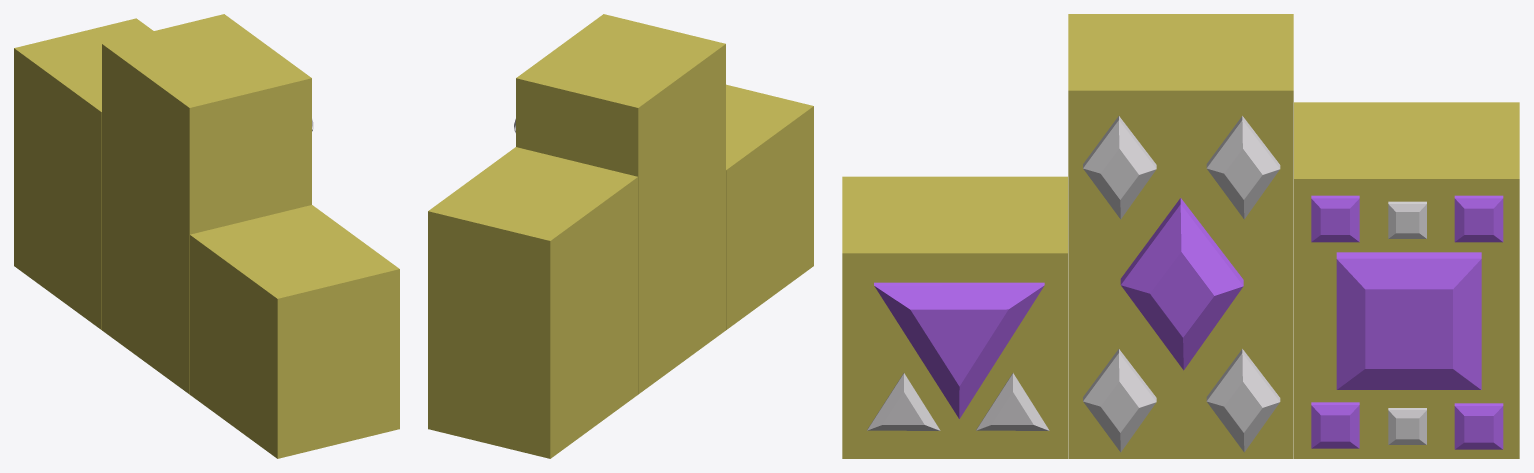
The model's file is NymphPlatform.fbx.
3 views of the same model, side by side, from view 1: azimuth 30°, elevation 25°; view 2: azimuth 150°, elevation 25°; view 3: azimuth 270°, elevation 25° (orthographic). The views are drawn at different scales.
Parts seen in each view (by area): view 1: Platform1, Platform1.002, Platform1.001; view 2: Platform1.001, Platform1, Platform1.002; view 3: Platform1, Platform1.001, Platform1.002, Gem.005, Cylinder, Gem, Gem.001, Gem.003, Gem.004, Gem.002, Gem.008, Gem.006 (+6 smaller).
Boxes of the visible parts, x1,y1,x2,y2 form: Platform1: (102, 14, 311, 394); Platform1.002: (190, 205, 399, 458); Platform1.001: (14, 18, 153, 329); Platform1.001: (428, 147, 637, 458); Platform1: (516, 14, 725, 394); Platform1.002: (726, 84, 813, 329); Platform1: (1068, 14, 1293, 458); Platform1.001: (1294, 102, 1519, 458); Platform1.002: (842, 176, 1067, 458); Gem.005: (1336, 252, 1481, 389); Cylinder: (874, 282, 1044, 418); Gem: (1120, 198, 1243, 370); Gem.001: (1206, 116, 1280, 219); Gem.003: (1206, 349, 1280, 452); Gem.004: (1083, 349, 1156, 452); Gem.002: (1083, 116, 1156, 219); Gem.008: (1454, 195, 1503, 242); Gem.006: (1311, 195, 1359, 242).
Size of the model in its own units: 211 by 399 by 665.
